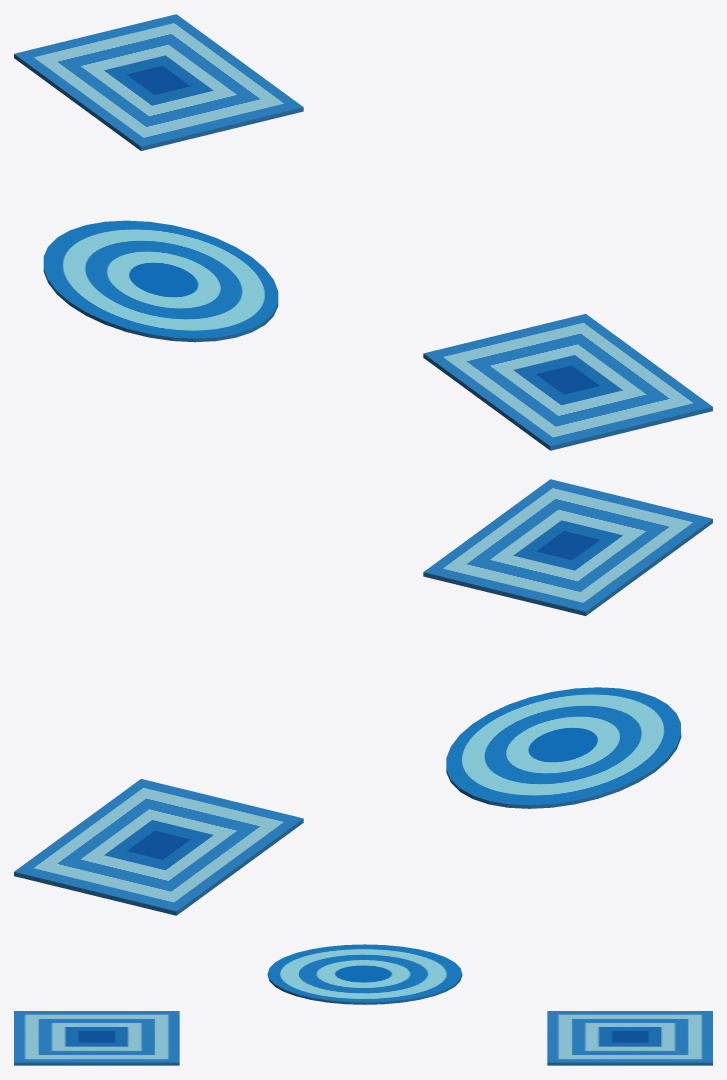
The model's file is Alfombras.obj.
3 renders of one model, top to bottom at view 1: azimuth 30°, elevation 25°; view 2: azimuth 150°, elevation 25°; view 3: azimuth 270°, elevation 25°, orthographic. The views are drawn at different scales.
Visible parts, largest first — view 1: Cylinder, Cube.009, Cube.010; view 2: Cylinder, Cube.009, Cube.010; view 3: Cylinder, Cube.009, Cube.010.
Part boxes in pixels (left/top/right/bottom): Cylinder: left=43, top=220, right=278, bottom=342; Cube.009: left=14, top=14, right=303, bottom=150; Cube.010: left=423, top=314, right=712, bottom=450; Cylinder: left=446, top=687, right=681, bottom=808; Cube.009: left=14, top=779, right=303, bottom=915; Cube.010: left=423, top=479, right=712, bottom=615; Cylinder: left=267, top=944, right=462, bottom=1004; Cube.009: left=547, top=1011, right=712, bottom=1065; Cube.010: left=14, top=1011, right=179, bottom=1065.
Bounding box in the file's own units: 3.77 × 0.0441 × 9.37.
3 materials, 3 textured.
